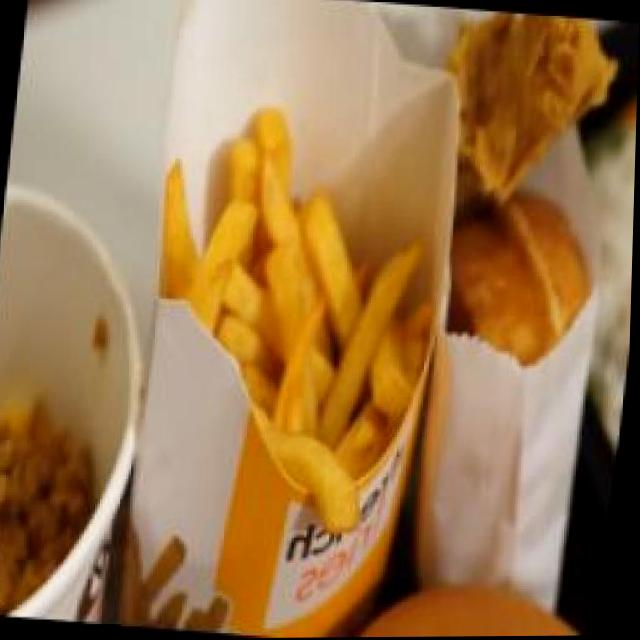chicken waffle: (357, 8, 640, 420)
french fries: (117, 60, 472, 575)
